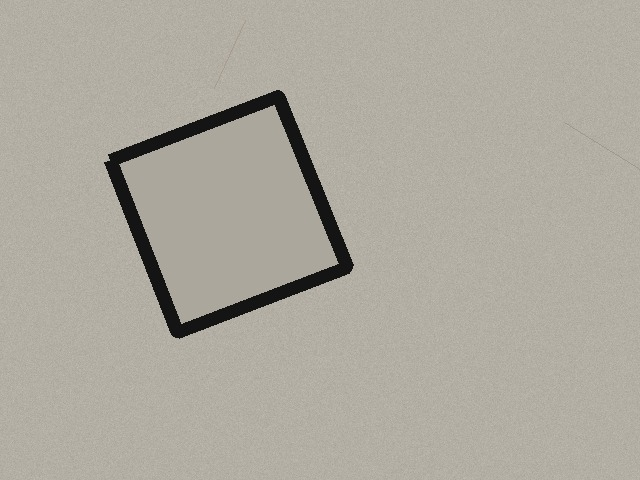parking_area: (110, 96, 347, 332)
